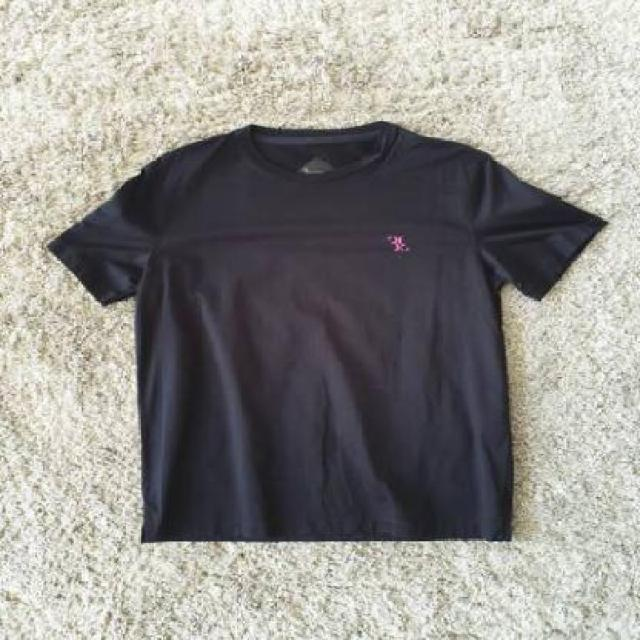shirt: (51, 117, 609, 549)
